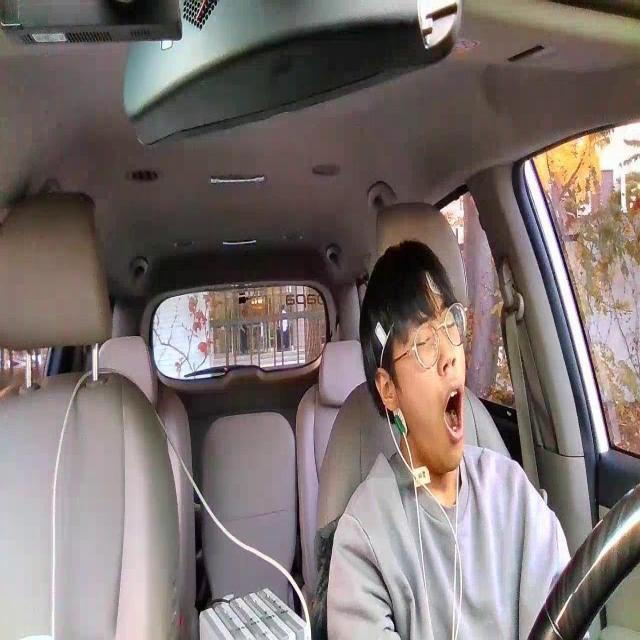Eye-Close: (440, 317, 459, 338), (414, 334, 433, 354)
Yawning: (440, 377, 466, 442)
